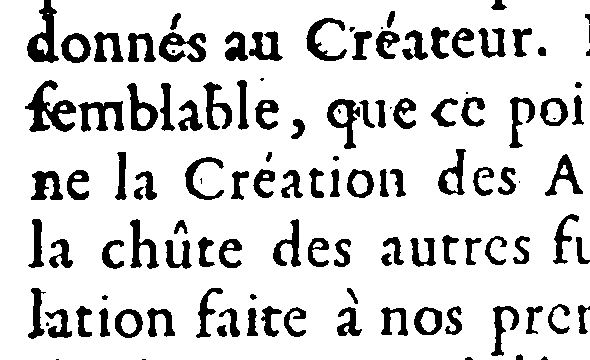e: (389, 96, 422, 129), (47, 99, 79, 131), (63, 169, 95, 201), (468, 164, 500, 196), (215, 235, 247, 267), (282, 306, 314, 338), (481, 235, 512, 266), (544, 303, 575, 334), (253, 99, 283, 129), (303, 238, 333, 268), (450, 28, 479, 57)
o: (59, 31, 92, 64), (411, 304, 444, 337), (537, 95, 568, 126), (113, 307, 143, 337), (347, 169, 374, 196)
